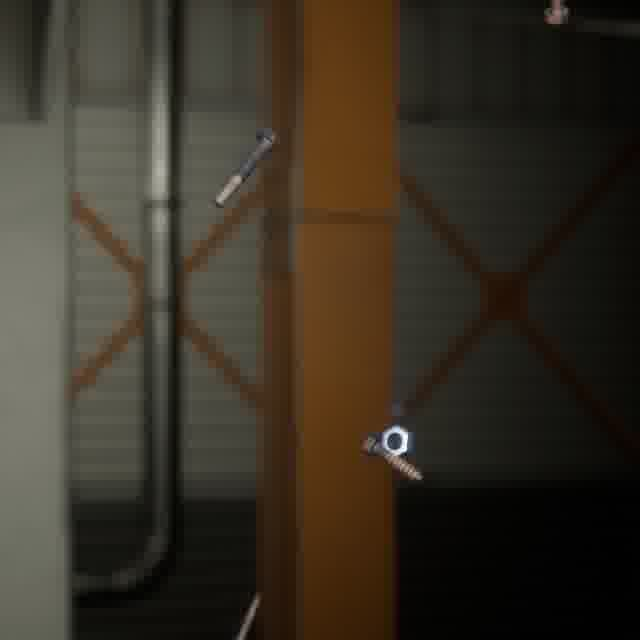bolt: (207, 123, 286, 212), (357, 427, 426, 485), (230, 588, 265, 640), (539, 0, 574, 29)
nut: (377, 420, 417, 461)
